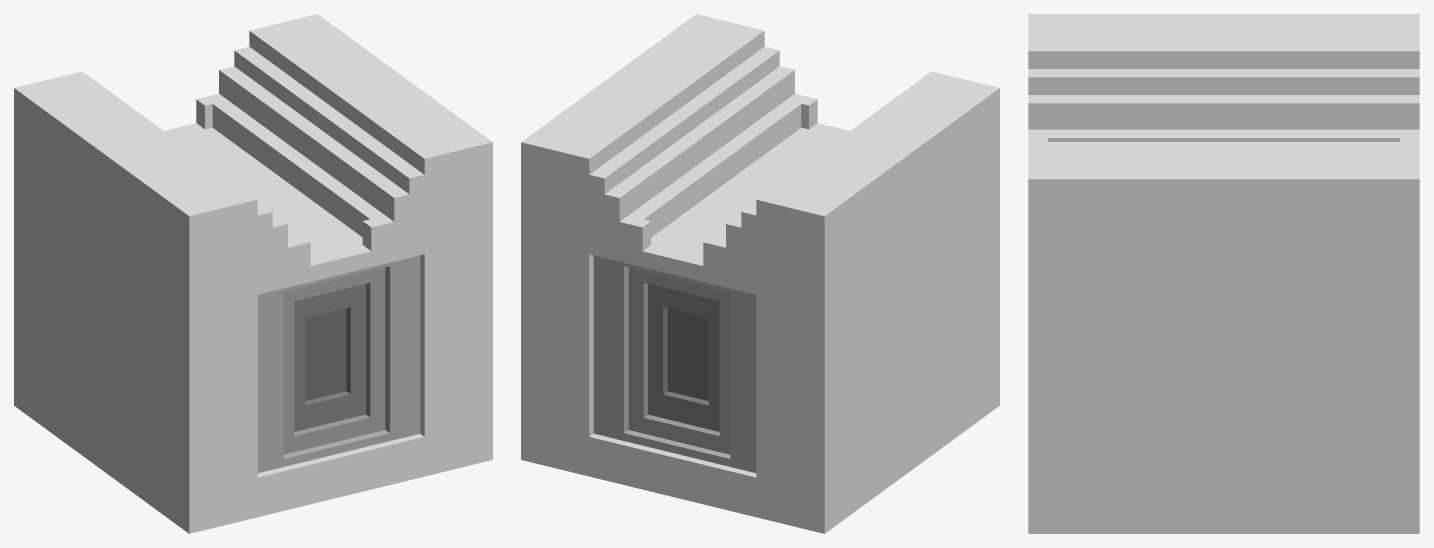
File: MuroTop.FBX
3 renders of one model, left to right at view 1: azimuth 30°, elevation 25°; view 2: azimuth 150°, elevation 25°; view 3: azimuth 270°, elevation 25°, orthographic. The views are drawn at different scales.
Parts seen in each view (by area): view 1: MurolTop; view 2: MurolTop; view 3: MurolTop.
Boxes of the visible parts, left/top/right/bottom form: MurolTop: left=14, top=14, right=492, bottom=533; MurolTop: left=521, top=14, right=999, bottom=533; MurolTop: left=1028, top=14, right=1419, bottom=533.
Size of the model in its own units: 1 by 1 by 1.
Materials: 1 (1 with a texture image).
